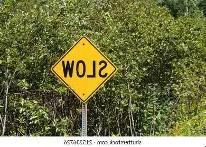Slow: (54, 38, 116, 100)
